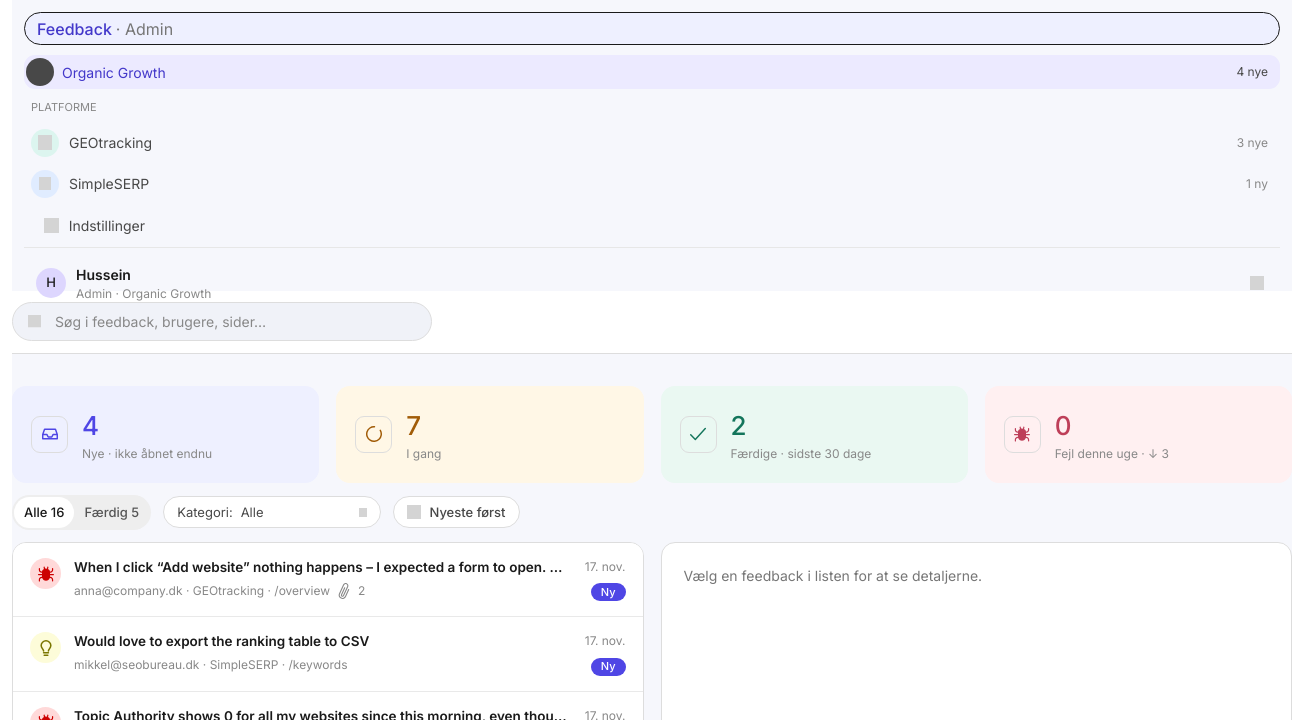
side menu and inbox together › log-out clears ticket changes (spec 004, US3-1)
Later steps or results of the test are not shown.
Click the button "nothing happens" at coordinates (328, 580), box [13,543,642,617]
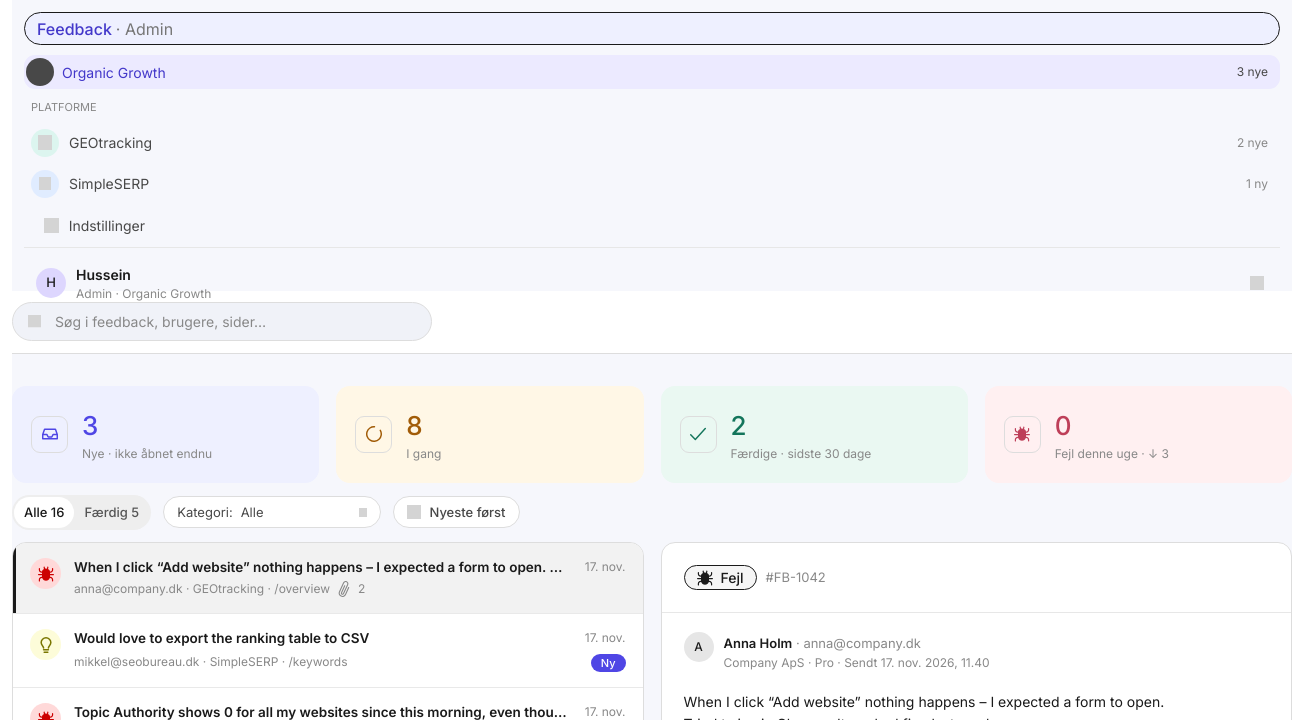
Expected: the link "Organic Growth 3 nye" is shown, [24,55,1280,89]
Expected: the link "GEOtracking 2 nye" is shown, [24,126,1280,160]
